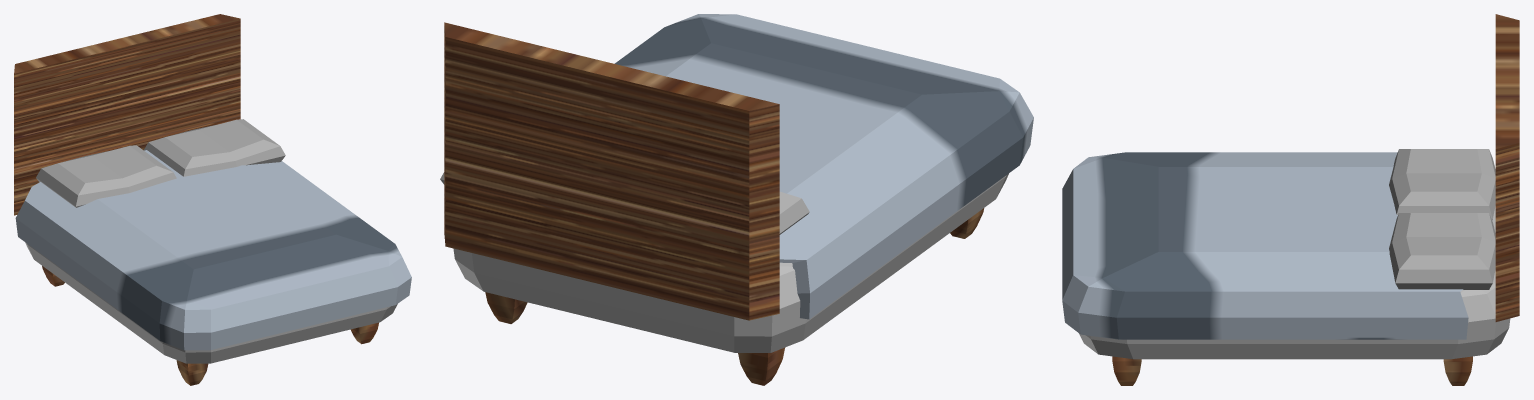
Rendered from Bed_Assets_V2.fbx.
The picture shows the model from 3 angles, left to right: view 1: azimuth 30°, elevation 25°; view 2: azimuth 150°, elevation 25°; view 3: azimuth 270°, elevation 25°; orthographic projection. The views are drawn at different scales.
Visible parts, largest first — view 1: Bed.001, Bed, Pillow, Pillow.001; view 2: Bed, Bed.001, Pillow; view 3: Bed.001, Bed, Pillow.001, Pillow.
Boxes of the visible parts, left/top/right/bottom form: Bed.001: left=15, top=150, right=411, bottom=350; Bed: left=14, top=14, right=397, bottom=385; Pillow: left=36, top=145, right=176, bottom=207; Pillow.001: left=143, top=119, right=285, bottom=176; Bed: left=444, top=22, right=1008, bottom=385; Bed.001: left=614, top=14, right=1033, bottom=319; Pillow: left=779, top=191, right=809, bottom=234; Bed.001: left=1062, top=152, right=1468, bottom=339; Bed: left=1079, top=14, right=1519, bottom=385; Pillow.001: left=1389, top=213, right=1495, bottom=289; Pillow: left=1389, top=149, right=1495, bottom=219.
Bounding box in the file's own units: 82.79 × 66.39 × 110.
